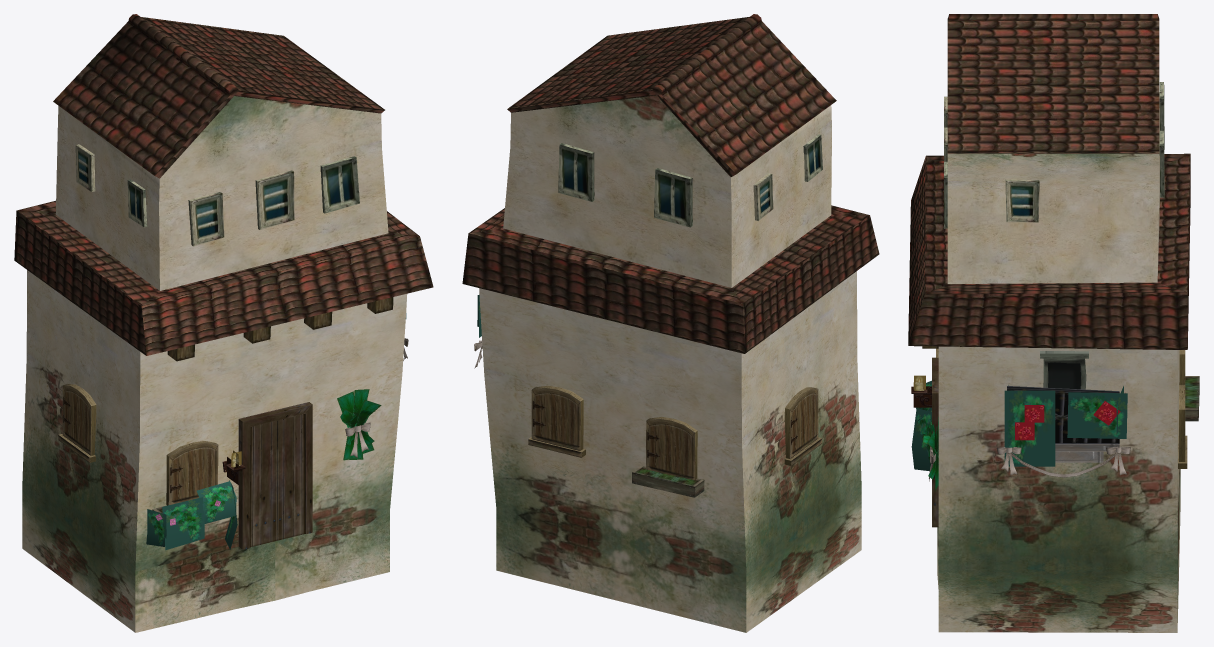
Rendered from spanish_npc_house_i_exterior.fbx.
3 views of the same model, side by side, from view 1: azimuth 30°, elevation 25°; view 2: azimuth 150°, elevation 25°; view 3: azimuth 270°, elevation 25° (orthographic). The views are drawn at different scales.
Visible parts, largest first — view 1: polySurface341, top_floor, polySurface339, polySurface338, door_left, spWin_rndw_wp, window.001, window1, window2, vine, window, vine2 (+3 smaller); view 2: polySurface341, top_floor, polySurface339, polySurface338, window.002, spWin_rndw_wp3, window.001, window49, window50, building_B, window48, window47; view 3: polySurface341, polySurface338, top_floor, polySurface339, pPlane19, pPlane16, pPlane13, railing, window46, building_I_high_geometry_main_pCube1_pCubeShape1, vine10, building_B (+2 smaller).
Part boxes in pixels (bbox=[...]): polySurface341: bbox=[22, 270, 407, 632]; top_floor: bbox=[55, 96, 388, 290]; polySurface339: bbox=[14, 200, 433, 355]; polySurface338: bbox=[53, 14, 384, 178]; door_left: bbox=[249, 414, 305, 547]; spWin_rndw_wp: bbox=[166, 441, 218, 505]; window.001: bbox=[62, 384, 96, 455]; window1: bbox=[255, 170, 294, 229]; window2: bbox=[320, 156, 359, 213]; vine: bbox=[162, 497, 204, 550]; window: bbox=[188, 192, 224, 246]; vine2: bbox=[196, 481, 236, 523]; polySurface341: bbox=[479, 271, 861, 632]; top_floor: bbox=[503, 95, 831, 287]; polySurface339: bbox=[462, 205, 879, 353]; polySurface338: bbox=[507, 14, 836, 176]; window.002: bbox=[531, 385, 583, 450]; spWin_rndw_wp3: bbox=[646, 416, 697, 480]; window.001: bbox=[784, 387, 818, 458]; window49: bbox=[654, 168, 692, 227]; window50: bbox=[558, 143, 594, 201]; building_B: bbox=[632, 465, 704, 497]; window48: bbox=[753, 173, 773, 220]; window47: bbox=[803, 134, 822, 181]; polySurface341: bbox=[922, 346, 1180, 632]; polySurface338: bbox=[947, 14, 1159, 153]; top_floor: bbox=[947, 92, 1159, 283]; polySurface339: bbox=[908, 153, 1190, 349]; pPlane19: bbox=[1004, 390, 1055, 466]; pPlane16: bbox=[1067, 392, 1127, 438]; pPlane13: bbox=[1040, 351, 1088, 389]; railing: bbox=[1007, 386, 1119, 444]; window46: bbox=[1005, 179, 1039, 222]; building_I_high_geometry_main_pCube1_pCubeShape1: bbox=[1055, 444, 1119, 462]; vine10: bbox=[911, 408, 931, 471]; building_B: bbox=[1185, 376, 1199, 421].
Size of the model in its own units: 2616 by 4221 by 2063.
3 materials, 3 textured.
